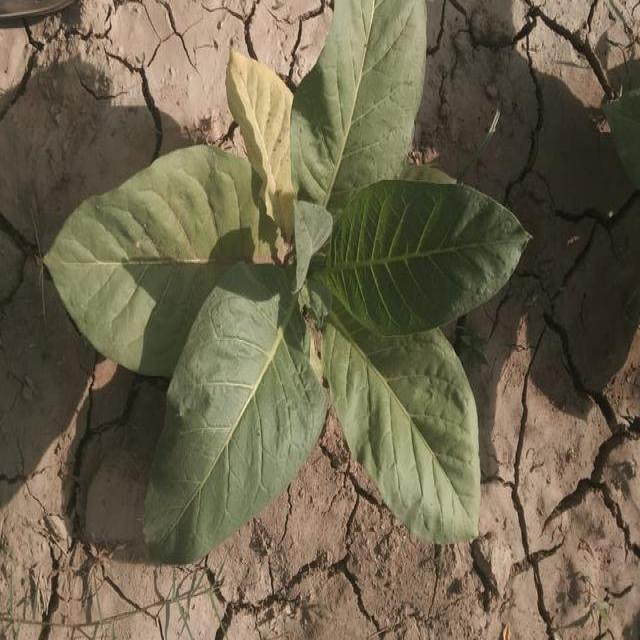crop: (55, 2, 527, 558)
